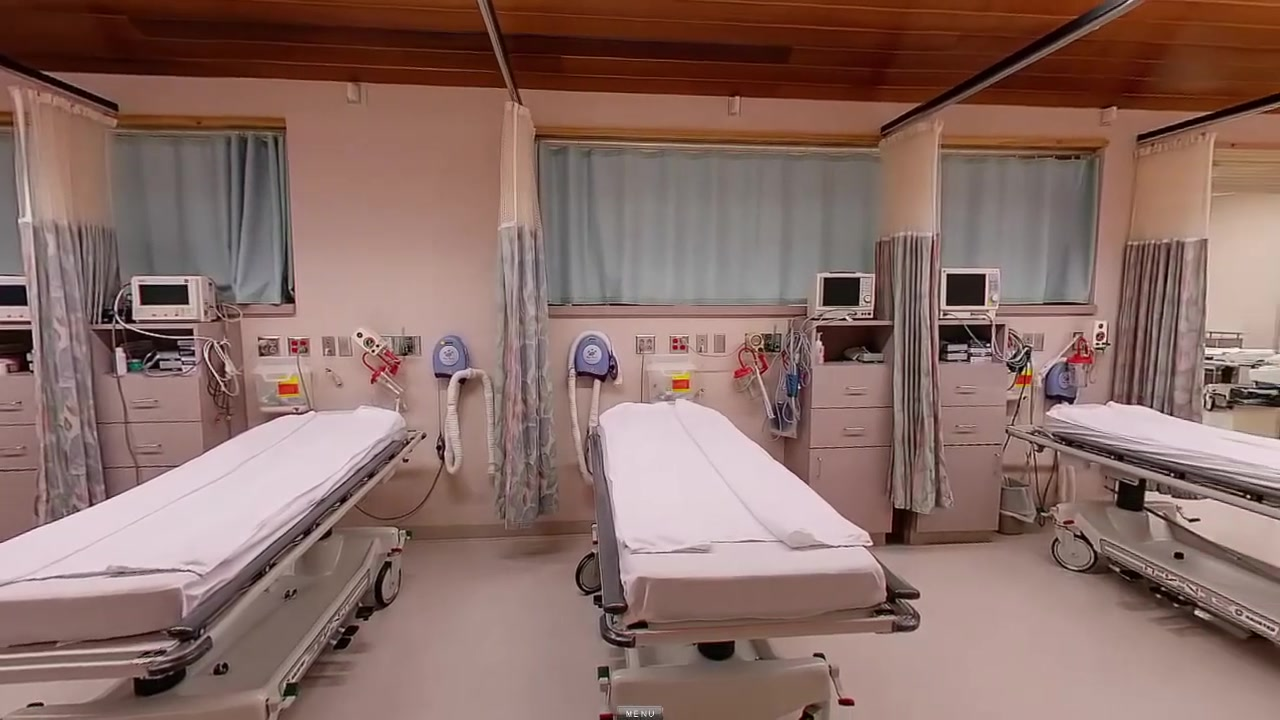bedside_monitor: (132, 275, 217, 322), (807, 272, 875, 317), (938, 268, 1001, 313), (1, 274, 32, 326)
curtain: (9, 91, 122, 527), (874, 116, 956, 514), (1112, 125, 1217, 426), (498, 103, 561, 525)
handle: (134, 442, 163, 450), (130, 397, 159, 404), (815, 457, 823, 480), (844, 385, 869, 392), (1, 444, 24, 451), (842, 426, 865, 432), (956, 385, 981, 390), (955, 425, 977, 430), (1, 401, 22, 406)
hospital_bed: (1, 405, 426, 720), (574, 398, 921, 720), (1005, 401, 1280, 657)
medical_drawer: (88, 322, 249, 494), (784, 317, 890, 543), (904, 319, 1007, 545), (1, 329, 42, 538)
waste_bin: (997, 478, 1035, 535)
